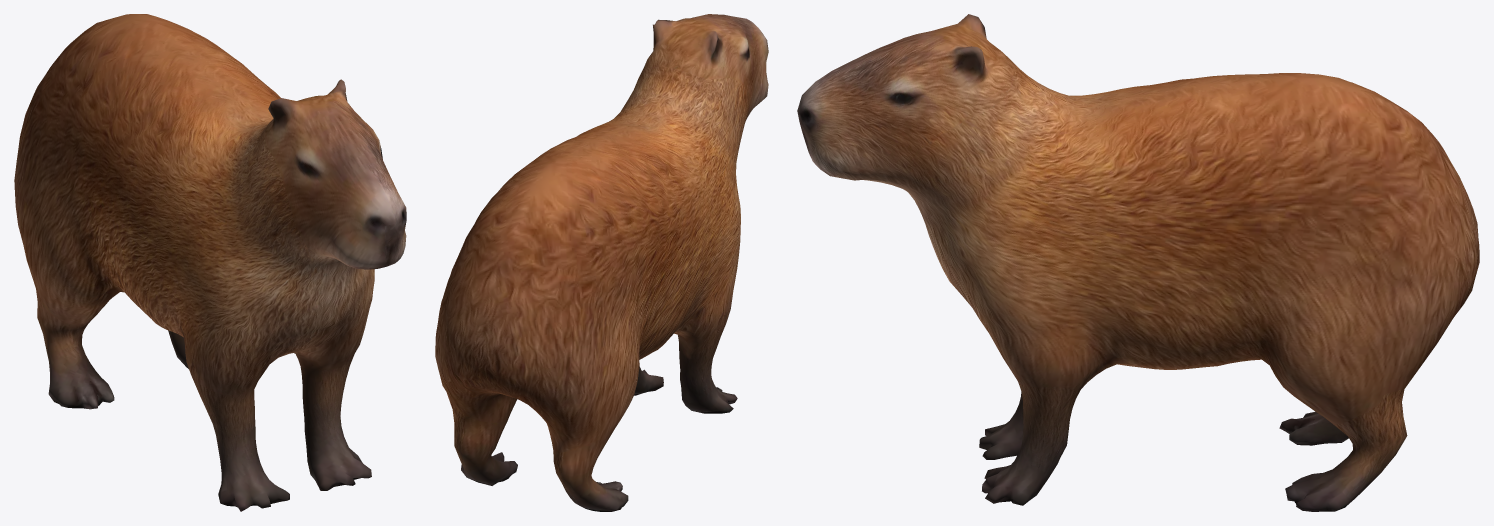
Rendered from capybara-transformed.glb.
3 renders of one model, left to right at view 1: azimuth 30°, elevation 25°; view 2: azimuth 150°, elevation 25°; view 3: azimuth 270°, elevation 25°, orthographic. The views are drawn at different scales.
Parts seen in each view (by area): view 1: Capybara_mesh; view 2: Capybara_mesh; view 3: Capybara_mesh.
Boxes of the visible parts, x1,y1,x2,y2 form: Capybara_mesh: (14, 14, 406, 511); Capybara_mesh: (435, 14, 768, 511); Capybara_mesh: (797, 14, 1479, 511).
Size of the model in its own units: 0.3072 by 0.6297 by 0.8803.
1 material, 1 textured.
